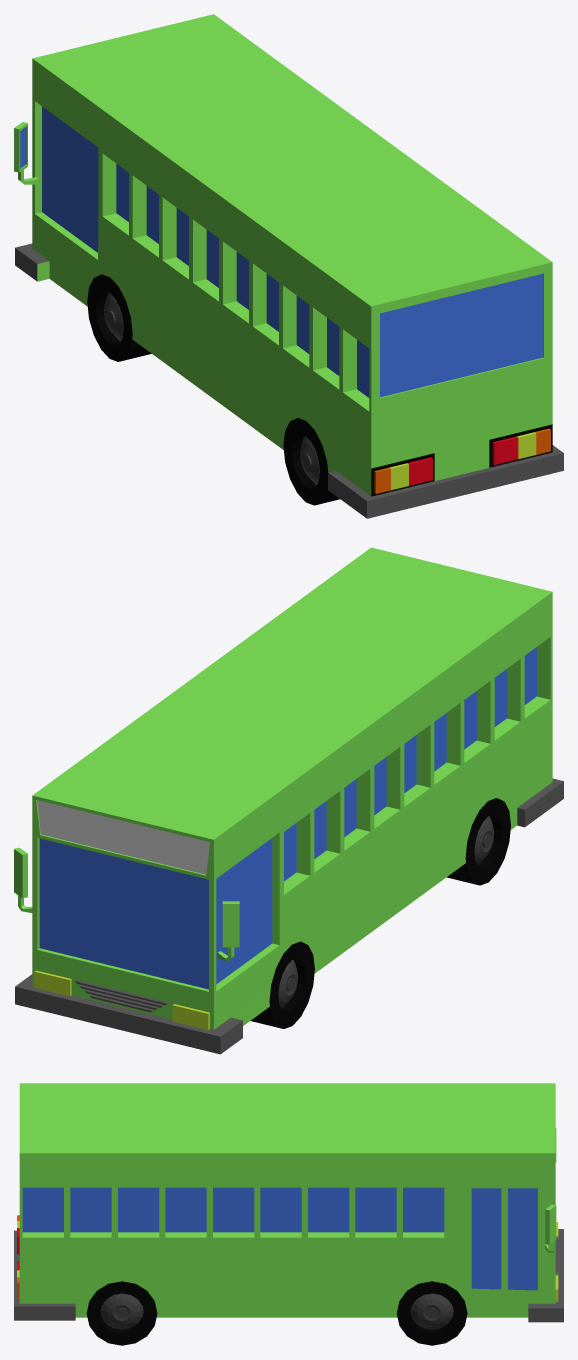
The model's file is bus_4.fbx.
The picture shows the model from 3 angles, top to bottom: view 1: azimuth 30°, elevation 25°; view 2: azimuth 150°, elevation 25°; view 3: azimuth 270°, elevation 25°; orthographic projection. The views are drawn at different scales.
Visible parts, largest first — view 1: Bus1; view 2: Bus1; view 3: Bus1.
Part boxes in pixels (<box>): Bus1: <box>14,14,563,518</box>; Bus1: <box>14,547,563,1054</box>; Bus1: <box>14,1083,563,1345</box>.
Bounding box in the file's own units: 106 × 109 × 283.
